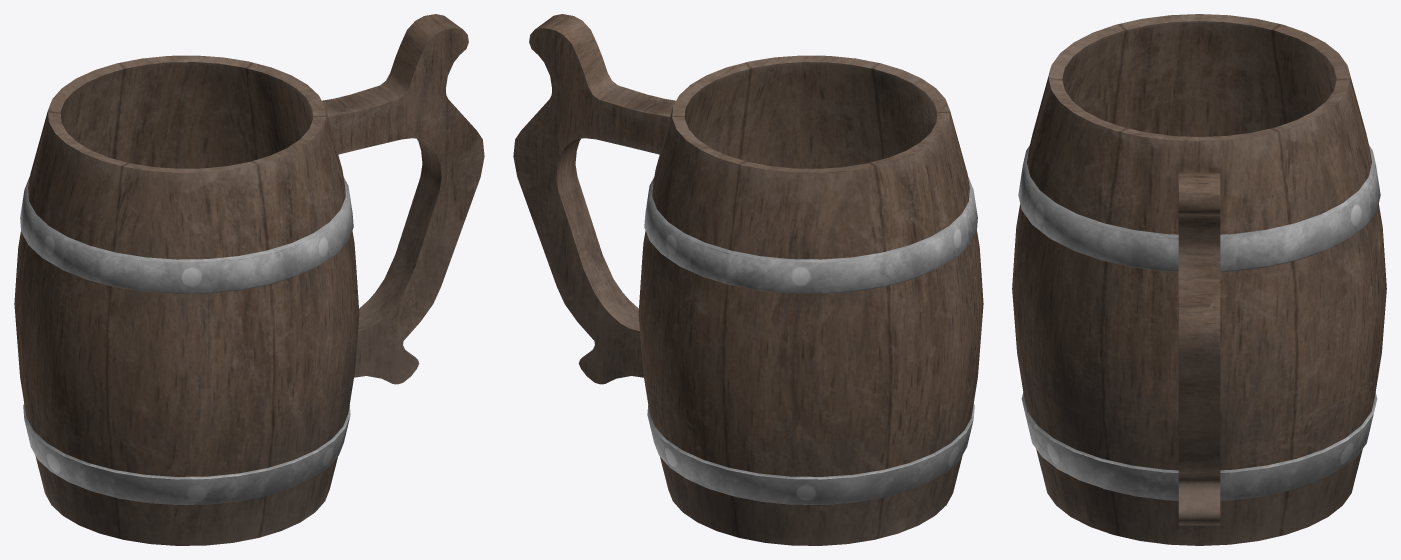
3 views of the same model, side by side, from view 1: azimuth 30°, elevation 25°; view 2: azimuth 150°, elevation 25°; view 3: azimuth 270°, elevation 25° (orthographic). The views are drawn at different scales.
Visible parts, largest first — view 1: BeerMug; view 2: BeerMug; view 3: BeerMug.
Boxes of the visible parts, x1=… form: BeerMug: x1=14, y1=14, x2=484, y2=545; BeerMug: x1=513, y1=14, x2=983, y2=545; BeerMug: x1=1012, y1=14, x2=1386, y2=545.
Size of the model in its own units: 0.26 by 0.2284 by 0.1778.
1 material, 1 textured.
